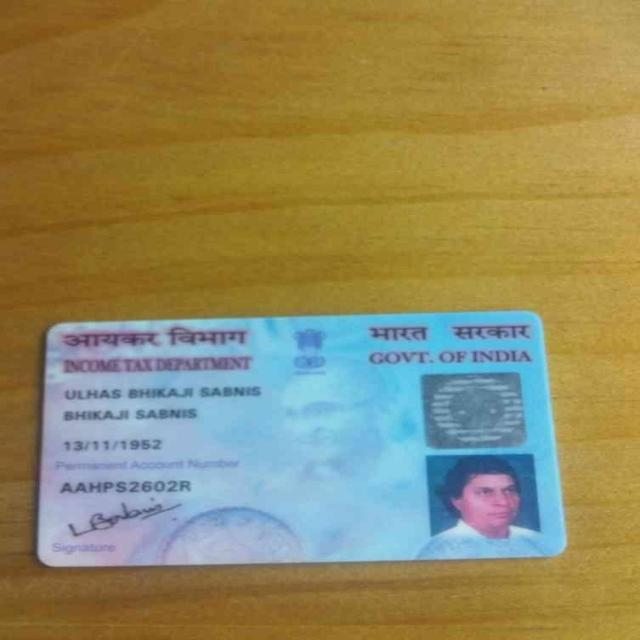pan_card: (36, 313, 565, 564)
